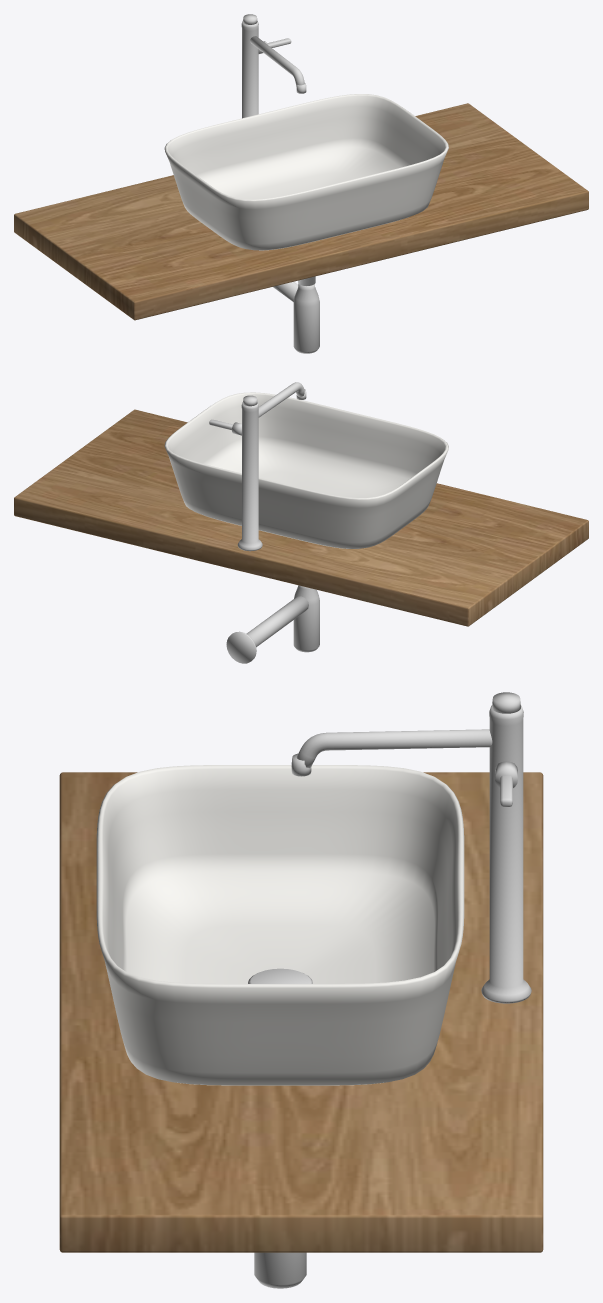
Rendered from lavabo_sobre_encimera_rectangular_100.glb.
3 views of the same model, one above another, from view 1: azimuth 30°, elevation 25°; view 2: azimuth 150°, elevation 25°; view 3: azimuth 270°, elevation 25° (orthographic). The views are drawn at different scales.
Visible parts, largest first — view 1: lavabo_sobre_encimera_rectangular_100; view 2: lavabo_sobre_encimera_rectangular_100; view 3: lavabo_sobre_encimera_rectangular_100.
Boxes of the visible parts, x1,y1,x2,y2 form: lavabo_sobre_encimera_rectangular_100: [14, 14, 588, 353]; lavabo_sobre_encimera_rectangular_100: [14, 382, 588, 663]; lavabo_sobre_encimera_rectangular_100: [59, 692, 543, 1288].
Bounding box in the file's own units: 1 × 0.612 × 0.46.
3 materials, 1 textured.
